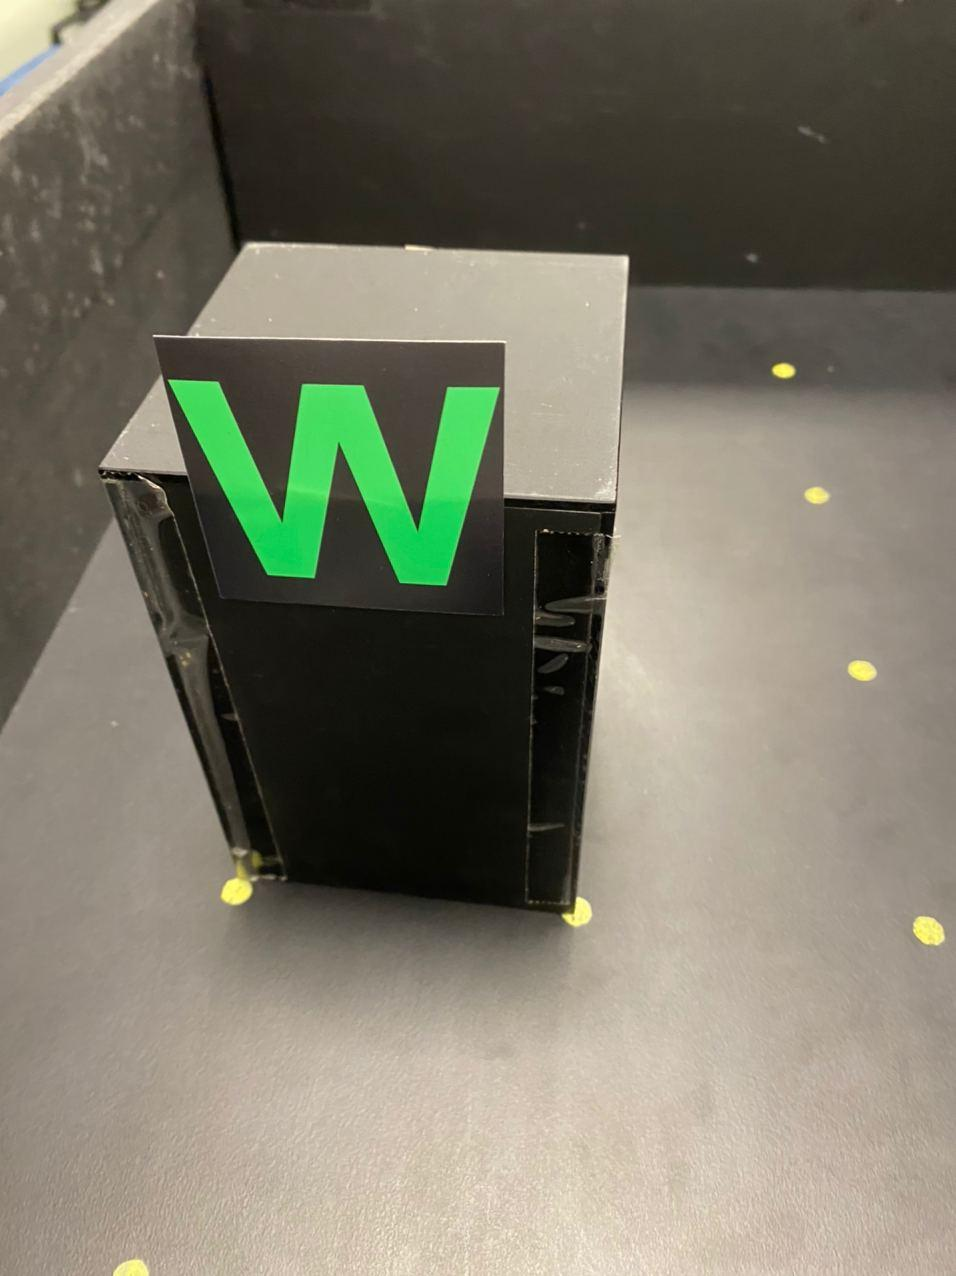w: (162, 349, 510, 613)
